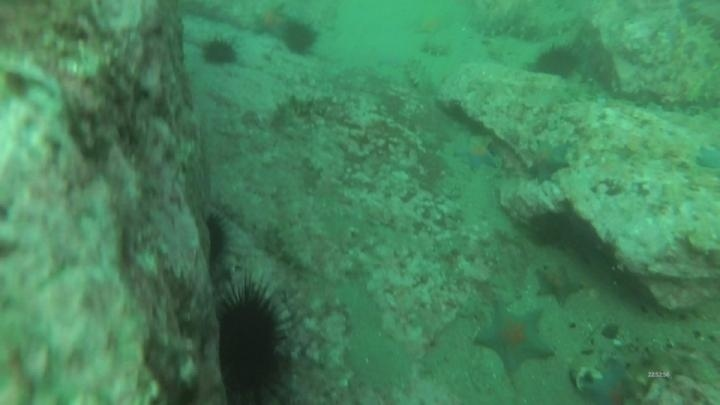echinus: (211, 282, 292, 403), (525, 209, 576, 250), (529, 43, 583, 81), (198, 211, 234, 268), (279, 19, 320, 57), (199, 35, 240, 69)
holothurian: (618, 340, 708, 396), (507, 7, 595, 42), (272, 212, 314, 273), (468, 6, 536, 36), (404, 56, 439, 99), (418, 38, 453, 59)
starfish: (472, 303, 556, 376), (582, 360, 640, 404), (532, 263, 585, 306), (524, 138, 572, 183), (453, 135, 501, 172), (249, 4, 293, 41), (409, 11, 454, 37), (694, 143, 720, 174)
